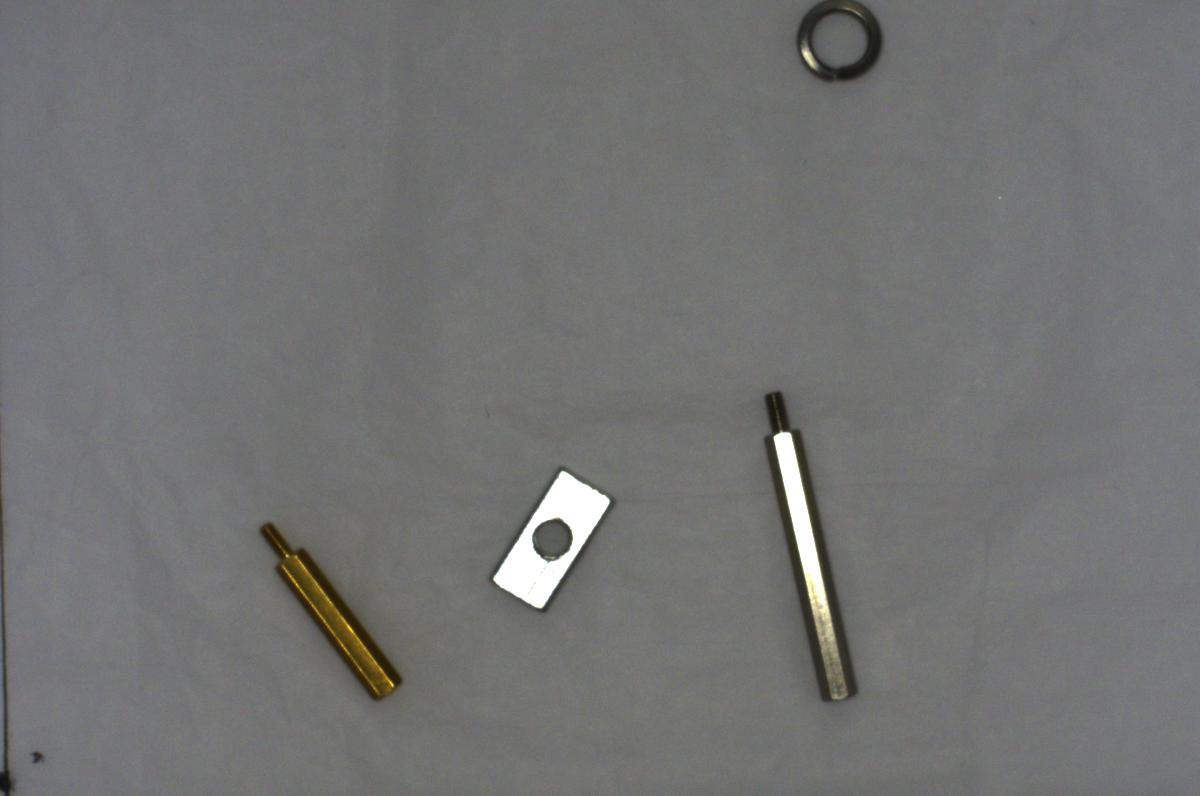Hexagon pillar: (248, 512, 410, 710)
Hexagonal steel column: (759, 376, 860, 709)
Rectangular nut: (474, 458, 613, 618)
Spring washer: (785, 3, 893, 86)
